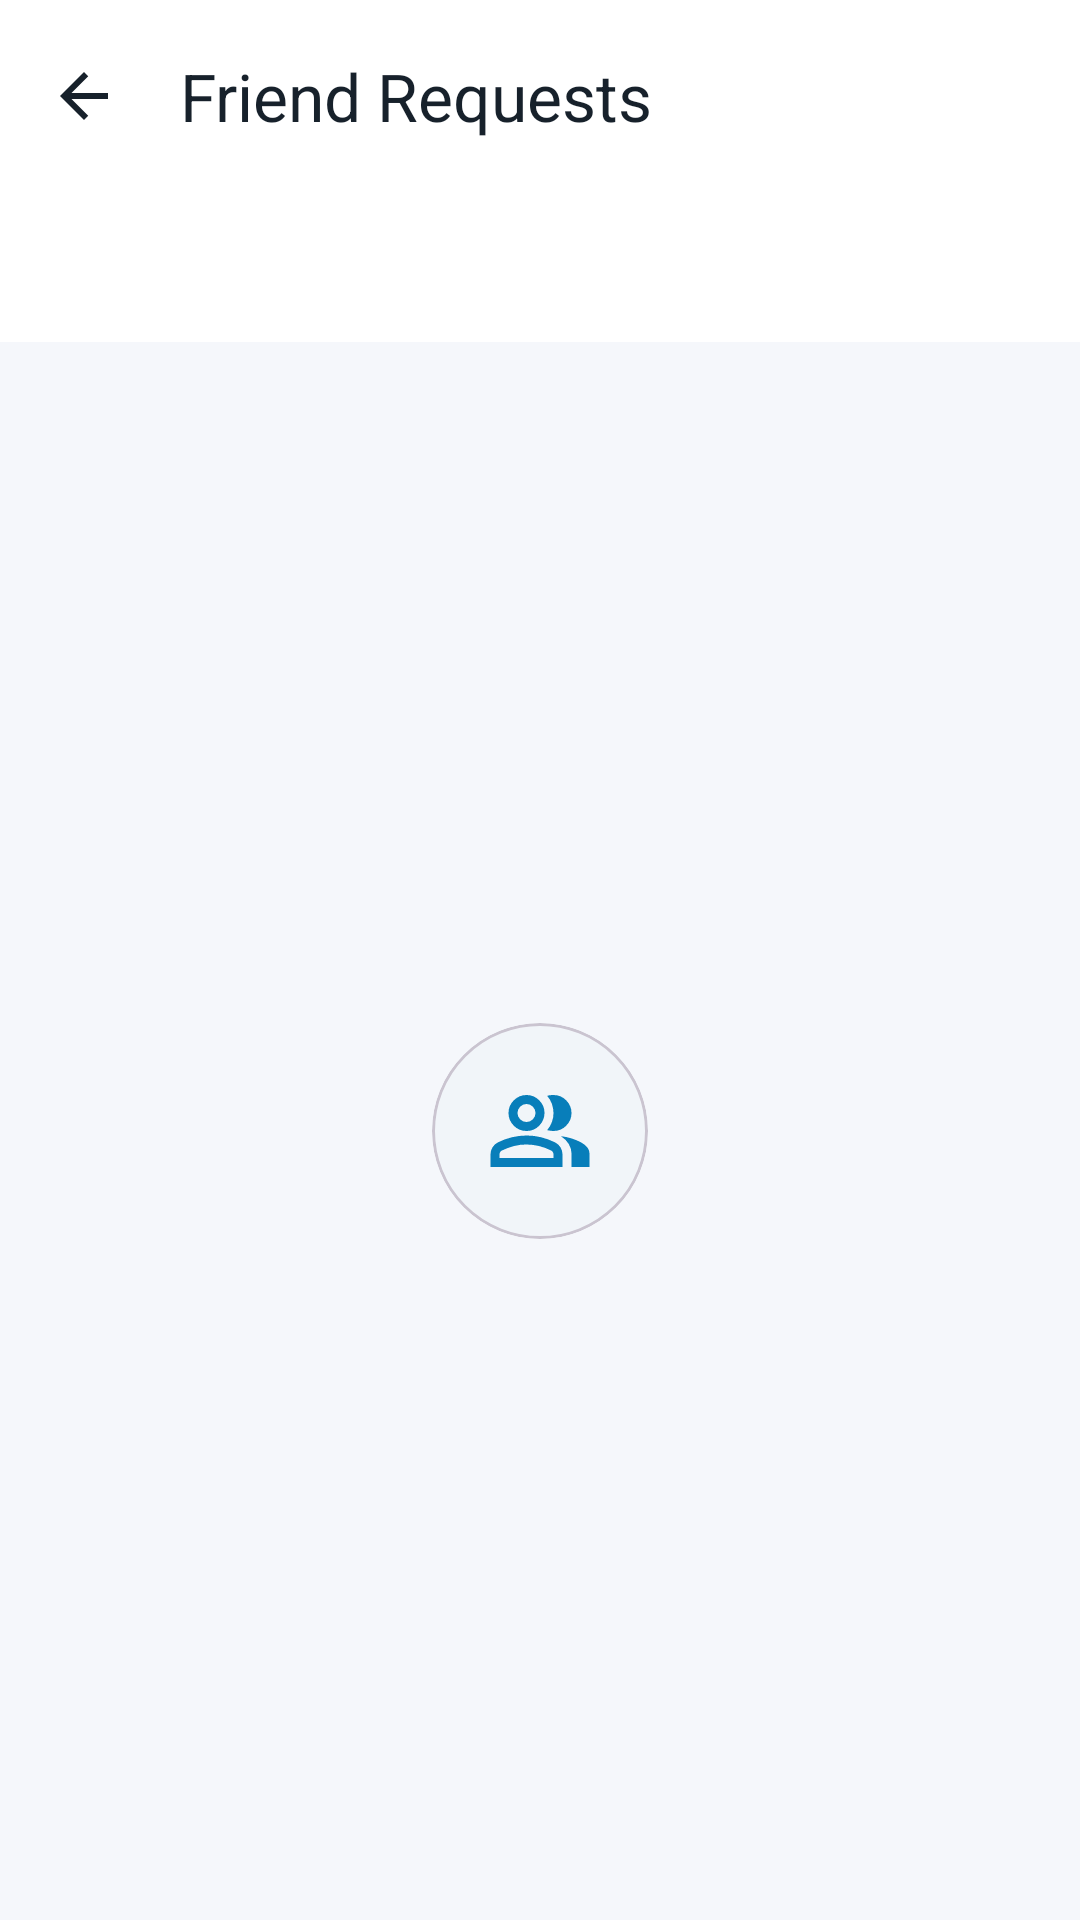

Icon click points for this 1080px x 1920px phone screenshot, format (x=x, y=y):
Friend requests: (x=540, y=1131)
